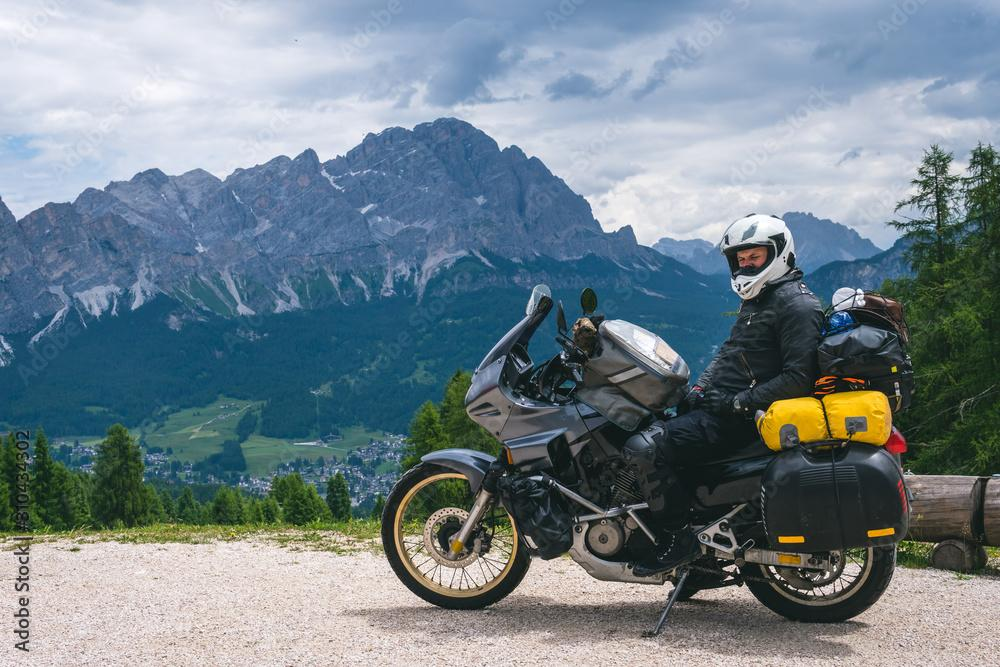helmet: (718, 212, 796, 302)
